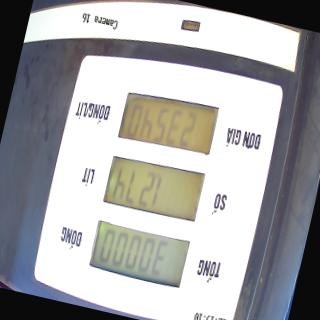screen: (84, 80, 225, 294)
